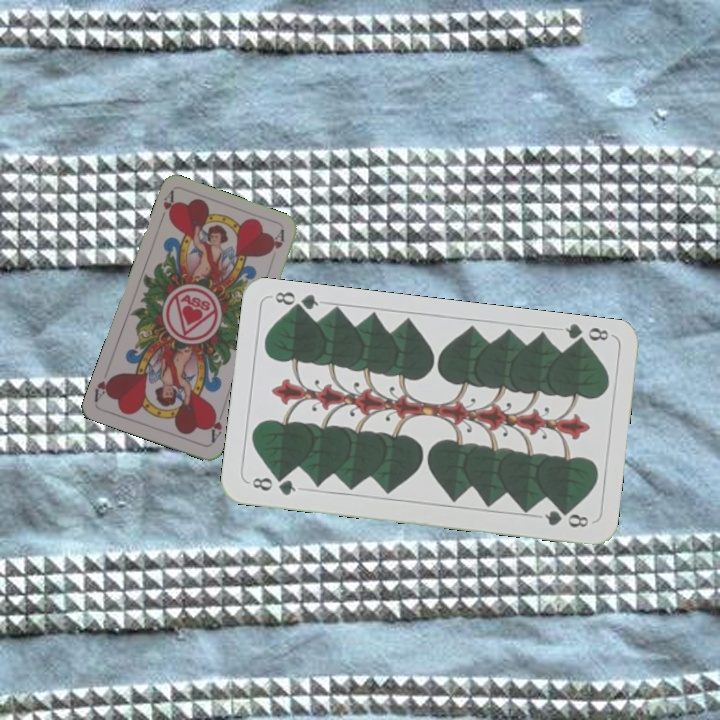G8: (561, 320, 611, 350), (248, 473, 299, 498)
HA: (155, 188, 179, 227), (205, 406, 226, 445)
